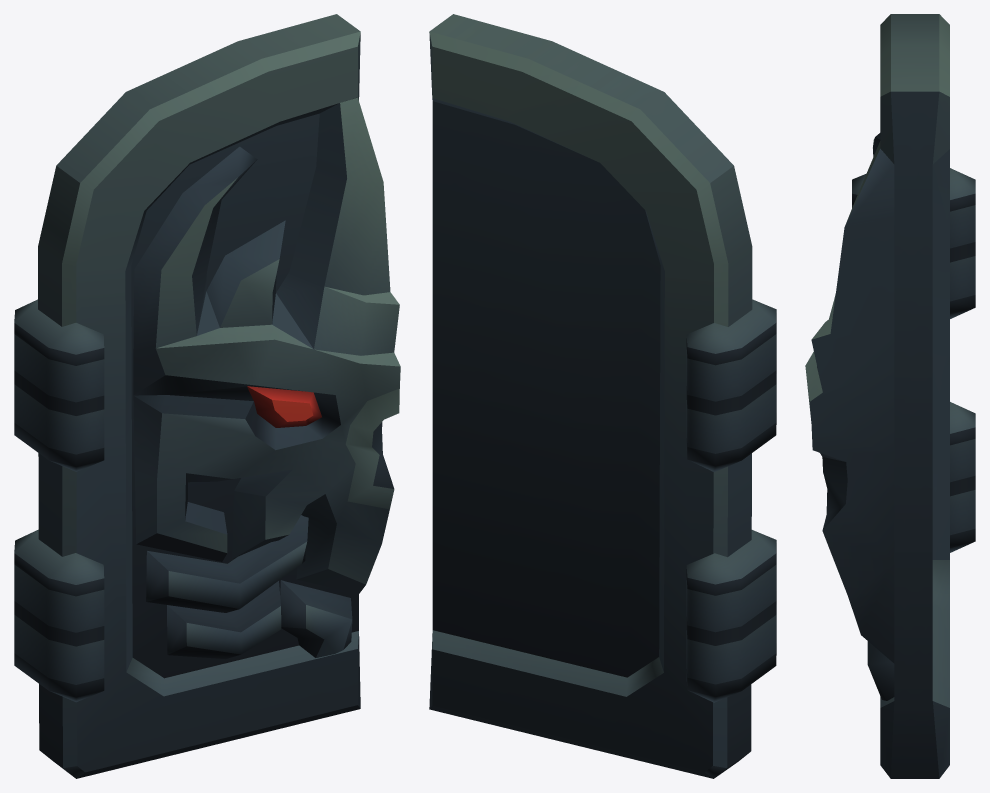
File: door_large_left.fbx
3 renders of one model, left to right at view 1: azimuth 30°, elevation 25°; view 2: azimuth 150°, elevation 25°; view 3: azimuth 270°, elevation 25°, orthographic.
Visible parts, largest first — view 1: door_large_left; view 2: door_large_left; view 3: door_large_left.
Part boxes in pixels (x1,y1,x2,y2): door_large_left: (14, 14, 400, 778); door_large_left: (429, 14, 776, 778); door_large_left: (805, 14, 975, 778).
Size of the model in its own units: 160 by 326 by 73.22.
